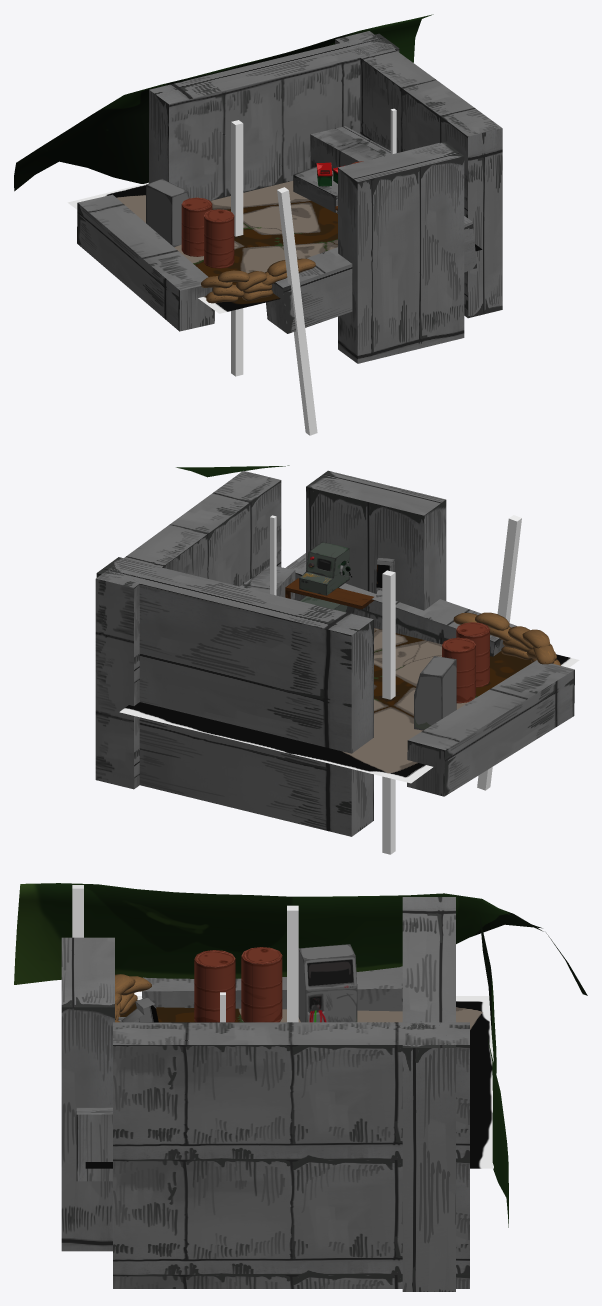
The picture shows the model from 3 angles, top to bottom: view 1: azimuth 30°, elevation 25°; view 2: azimuth 150°, elevation 25°; view 3: azimuth 270°, elevation 25°; orthographic projection. The views are drawn at different scales.
Parts seen in each view (by area): view 1: Cube.014, Cube.015, Cube.017, Cube.005, Plane.001, Plane, Cube, Cube.016, Cube.001, Cube.002, Cube.006, Cylinder.001 (+2 smaller); view 2: Cube.015, Cube.017, Cube.014, Cube.005, Plane, Cube, Cube.001, Cube.006, Cube.011, Cube.016, Cylinder.004, Cylinder.001 (+4 smaller); view 3: Cube.017, Plane.001, Cube.015, Cube.014, Plane, Cube.006, Cube.005, Cylinder.004, Cylinder.001, Cube, Cube.001, Cube.016 (+1 smaller).
Boxes of the visible parts, x1,y1,x2,y2 form: Cube.014: (338,141,464,363); Cube.015: (149,33,399,200); Cube.017: (335,31,502,318); Cube.005: (77,194,214,331); Plane.001: (14,14,433,191); Plane: (67,181,482,313); Cube: (266,216,476,333); Cube.016: (277,187,317,435); Cube.001: (231,120,243,376); Cube.002: (310,126,390,170); Cube.006: (146,179,189,247); Cylinder.001: (204,209,234,268); Cube.015: (96,557,373,836); Cube.017: (95,470,281,789); Cube.014: (306,470,446,610); Cube.005: (407,660,574,796); Plane: (119,628,579,783); Cube: (286,553,516,656); Cube.001: (382,570,395,854); Cube.006: (414,656,456,730); Cube.011: (299,541,349,595); Cube.016: (477,515,521,790); Cylinder.004: (442,637,475,703); Cylinder.001: (456,622,489,687); Cube.017: (113,1022,469,1288); Plane.001: (14,883,587,1227); Cube.015: (402,897,455,1291); Cube.014: (61,937,114,1251); Plane: (85,996,493,1168); Cube.006: (298,944,357,1022); Cube.005: (142,966,402,1011); Cylinder.004: (241,947,282,1022); Cylinder.001: (194,950,235,1022); Cube: (76,1017,125,1181); Cube.001: (287,905,298,1022); Cube.016: (72,885,83,937).
Size of the model in its own units: 17.13 by 10.73 by 16.3.
Materials: 4 (3 with a texture image).
